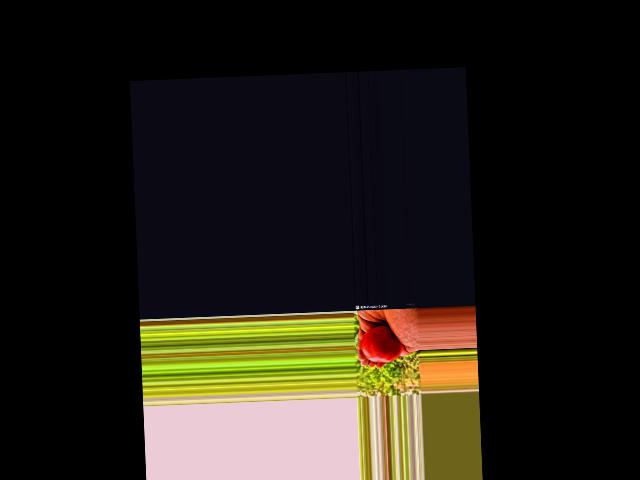tomato: (361, 324, 403, 362)
